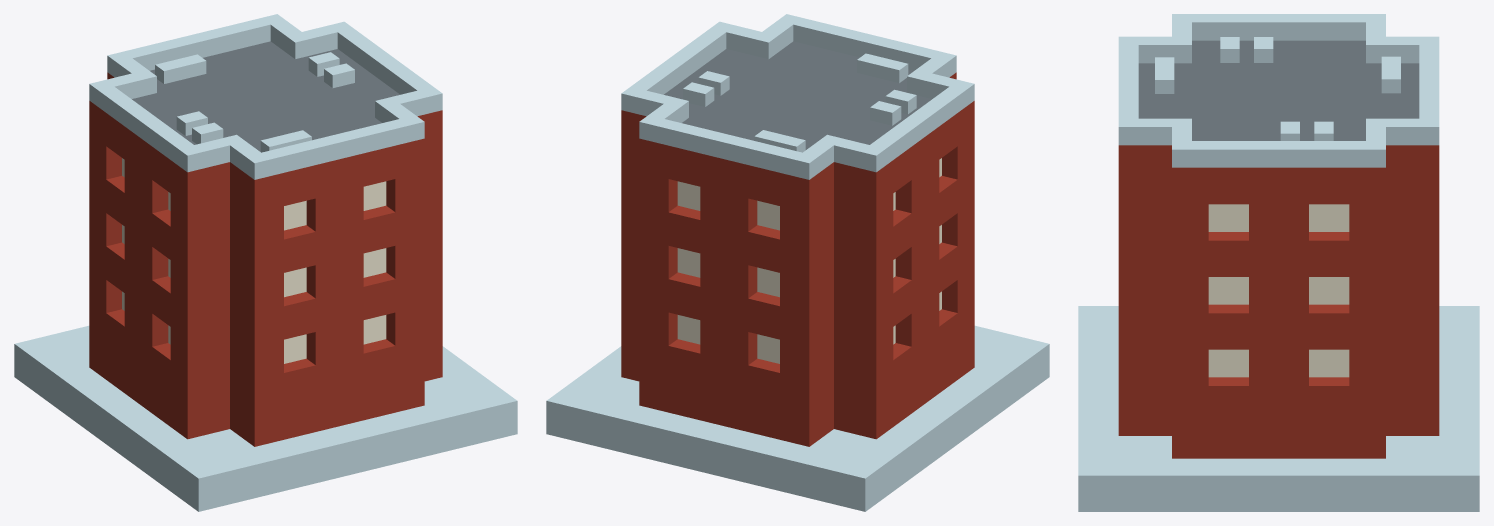
The model's file is Building_4_Base_Extra (Red).obj.
3 views of the same model, side by side, from view 1: azimuth 30°, elevation 25°; view 2: azimuth 150°, elevation 25°; view 3: azimuth 270°, elevation 25° (orthographic). The views are drawn at different scales.
Visible parts, largest first — view 1: Building_4_Base_Extra_(Red); view 2: Building_4_Base_Extra_(Red); view 3: Building_4_Base_Extra_(Red).
Boxes of the visible parts, x1,y1,x2,y2 form: Building_4_Base_Extra_(Red): (14, 14, 517, 511); Building_4_Base_Extra_(Red): (546, 14, 1049, 511); Building_4_Base_Extra_(Red): (1078, 14, 1479, 511).
Size of the model in its own units: 2 by 1.9 by 2.
